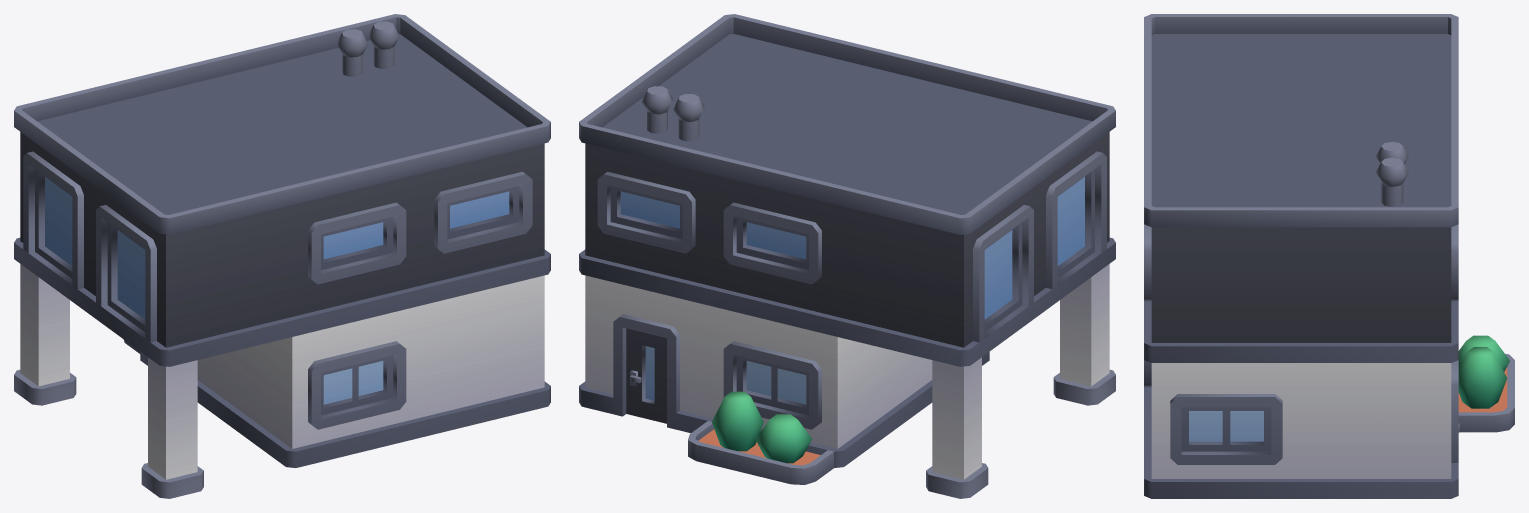
Rendered from sub-building-type-p.glb.
3 views of the same model, side by side, from view 1: azimuth 30°, elevation 25°; view 2: azimuth 150°, elevation 25°; view 3: azimuth 270°, elevation 25° (orthographic). The views are drawn at different scales.
Visible parts, largest first — view 1: building-type-p; view 2: building-type-p; view 3: building-type-p.
Boxes of the visible parts, box(x1,y1,x2,y2) form: building-type-p: box(14, 14, 550, 498); building-type-p: box(579, 14, 1115, 498); building-type-p: box(1144, 14, 1514, 498).
Size of the model in its own units: 12.4 by 9.18 by 9.9.
1 material, 1 textured.
